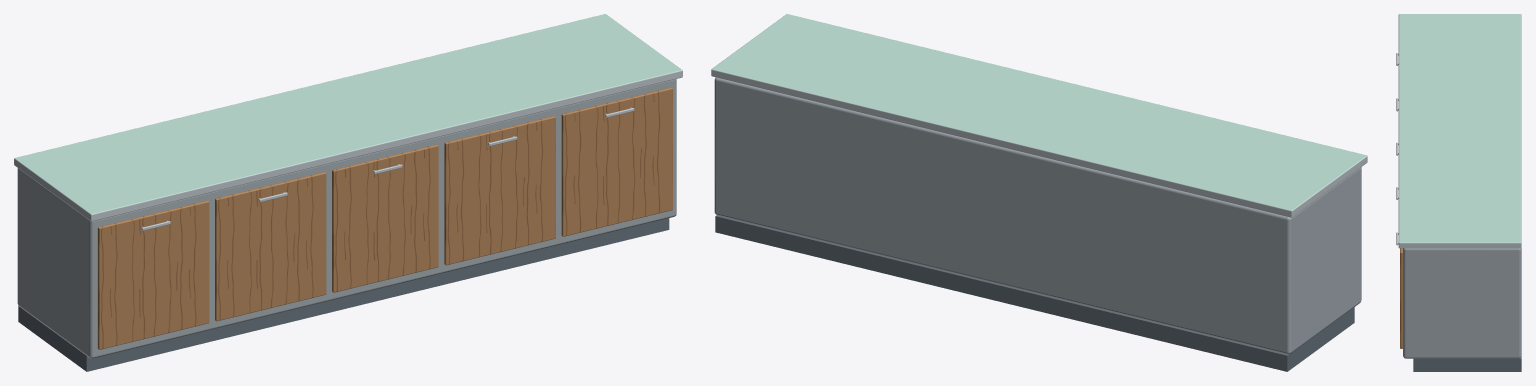
The model's file is SM_DrinkIceCounter.glb.
3 renders of one model, left to right at view 1: azimuth 30°, elevation 25°; view 2: azimuth 150°, elevation 25°; view 3: azimuth 270°, elevation 25°, orthographic. The views are drawn at different scales.
Parts seen in each view (by area): view 1: SM_DrinkIceCounter, Door_1, Door_4, Door_2, Door_5, Door_3; view 2: SM_DrinkIceCounter; view 3: SM_DrinkIceCounter, Door_5.
Boxes of the visible parts, x1=… form: SM_DrinkIceCounter: x1=14, y1=14, x2=682, y2=371; Door_1: x1=97, y1=200, x2=209, y2=349; Door_4: x1=444, y1=116, x2=555, y2=265; Door_2: x1=215, y1=172, x2=326, y2=321; Door_5: x1=561, y1=87, x2=672, y2=236; Door_3: x1=332, y1=144, x2=438, y2=292; SM_DrinkIceCounter: x1=711, y1=14, x2=1367, y2=371; SM_DrinkIceCounter: x1=1398, y1=14, x2=1521, y2=371; Door_5: x1=1396, y1=232, x2=1402, y2=348.
Bounding box in the file's own units: 3.75 × 1 × 0.866.
Materials: 4 (4 with a texture image).
